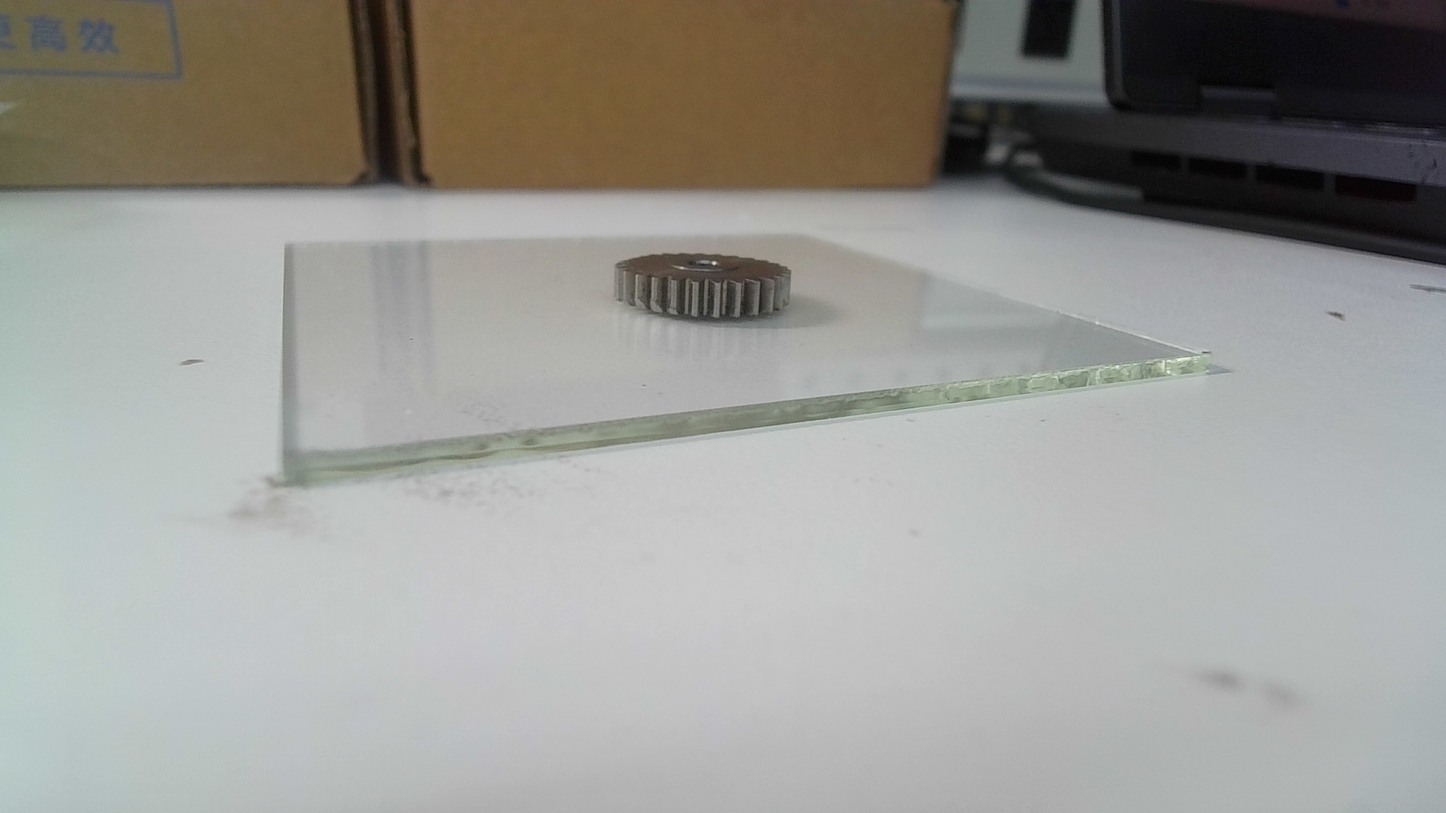gear: (609, 250, 796, 325)
